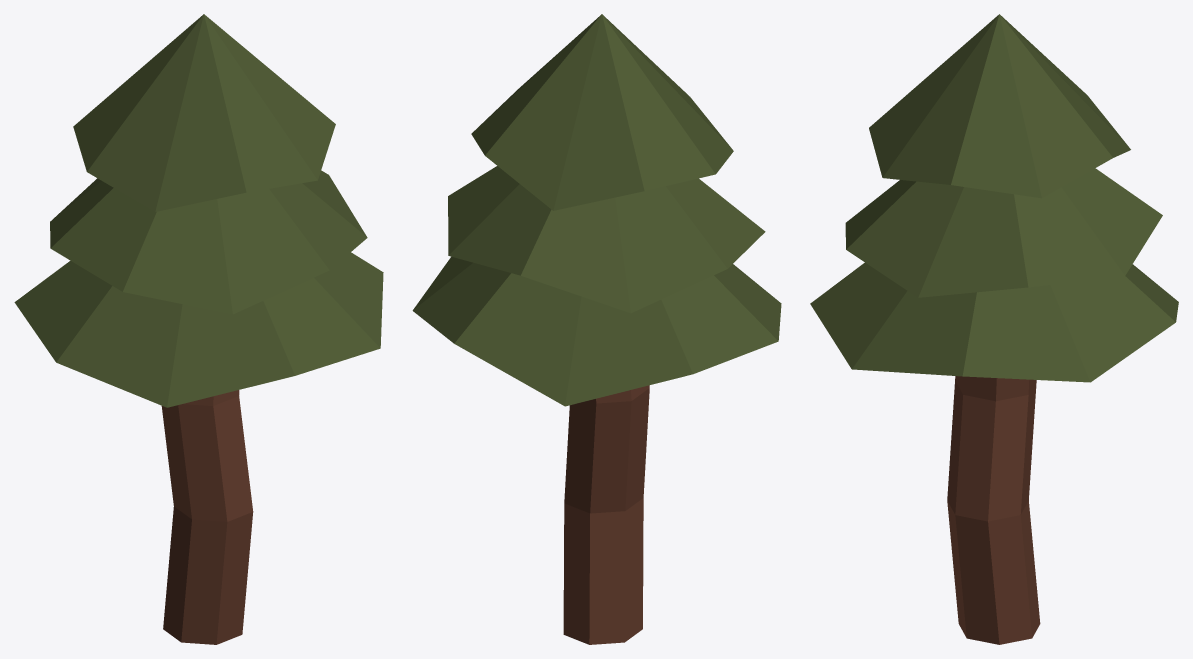
File: tree_03.fbx
The picture shows the model from 3 angles, left to right: view 1: azimuth 30°, elevation 25°; view 2: azimuth 150°, elevation 25°; view 3: azimuth 270°, elevation 25°; orthographic projection.
Visible parts, largest first — view 1: tree_6; view 2: tree_6; view 3: tree_6.
Part boxes in pixels (<box>): tree_6: <box>14,14,383,644</box>; tree_6: <box>412,14,781,644</box>; tree_6: <box>810,14,1178,644</box>.
Bounding box in the file's own units: 4.18 × 7.58 × 4.13.
